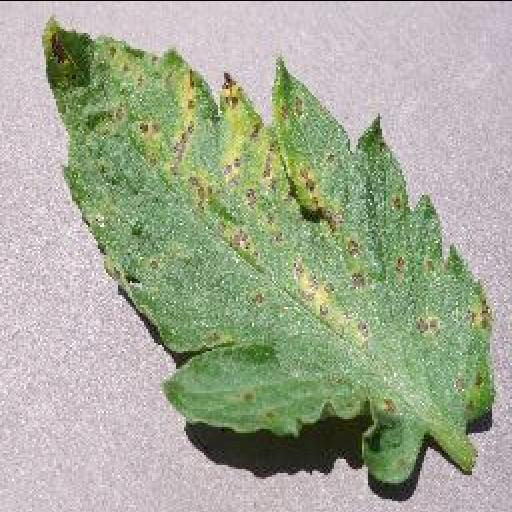disease_tomato: (42, 18, 500, 484)
